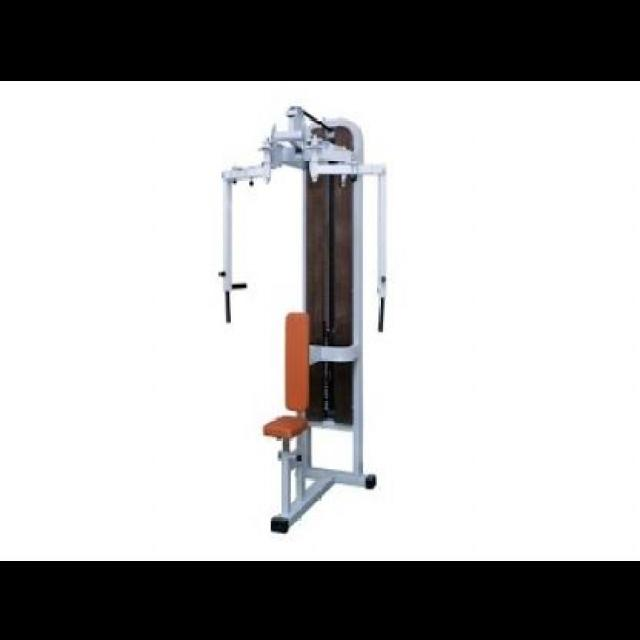chest fly machine: (208, 91, 424, 540)
